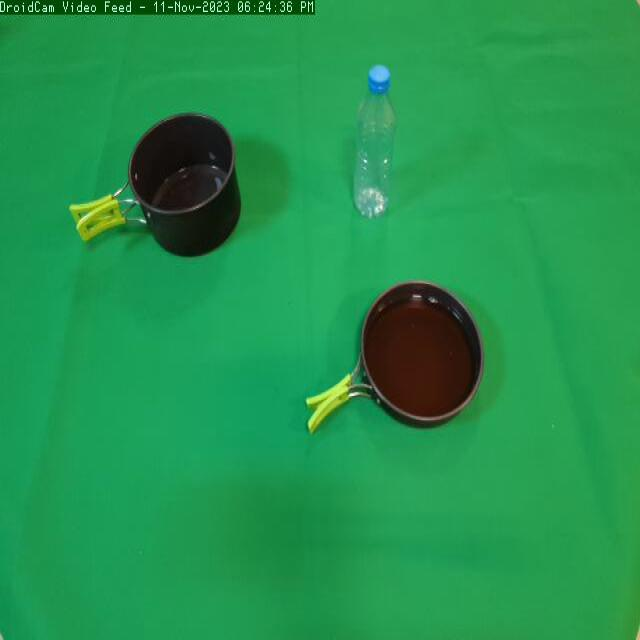bottle: (344, 53, 406, 239)
fullpan: (300, 269, 494, 445)
pot: (66, 104, 247, 264)
